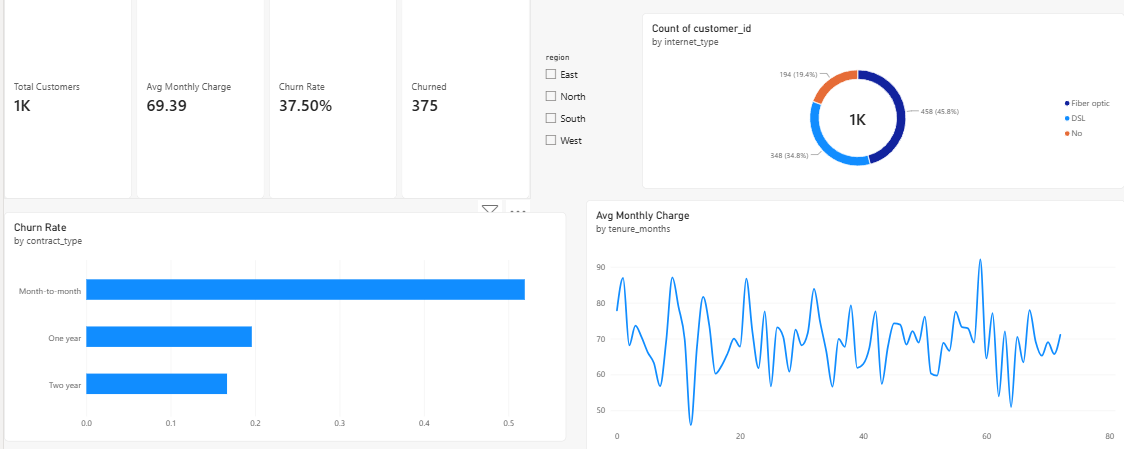

This screenshot's page, from the dashboard's own definition file:
{"tool":"powerbi","page":{"name":"Page 1","canvas":[1920,1080],"ordinal":0},"visuals":[{"type":"cardVisual","fields":{"Data":["customers.Total Customers","customers.Avg Monthly Charge","customers.Churn Rate","customers.Churned"]},"box":[0,0,902.4,349.2],"z":0},{"type":"clusteredBarChart","fields":{"Category":["customers.contract_type"],"Y":["customers.Churn Rate"]},"box":[0,371.7,963.4,393.4],"z":1000},{"type":"donutChart","fields":{"Category":["customers.internet_type"],"Y":["CountNonNull(customers.customer_id)"]},"box":[1092.7,30.8,827.3,301.4],"z":2000},{"type":"lineChart","fields":{"Category":["customers.tenure_months"],"Y":["customers.Avg Monthly Charge"]},"box":[996.8,351.1,923.8,436],"z":3000},{"type":"slicer","fields":{"Values":["customers.region"]},"box":[919.8,97.6,190.1,197],"z":3001}]}

Visuals, with their boxes on the page's 1920x1080 design canvas (x1, y1, x2, y2). These are canvas units, not pixel positions in the 1124x449 screenshot, which may show the page scaled, cropped or inside an application window:
cardVisual - customers.Total Customers x customers.Avg Monthly Charge: 0 0 902 349
clusteredBarChart - customers.contract_type x customers.Churn Rate: 0 372 963 765
donutChart - customers.internet_type x CountNonNull(customers.customer_id): 1093 31 1920 332
lineChart - customers.tenure_months x customers.Avg Monthly Charge: 997 351 1921 787
slicer - customers.region: 920 98 1110 295
